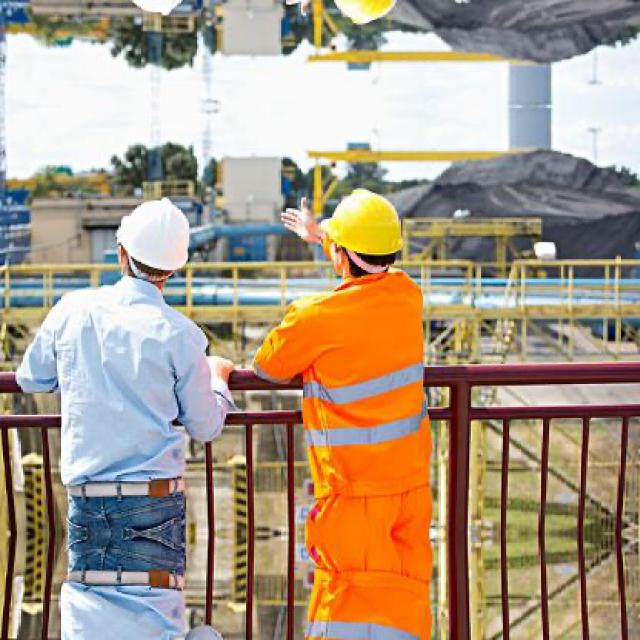helmet: (114, 193, 203, 299), (309, 185, 405, 282), (309, 0, 406, 29), (114, 0, 204, 22)
